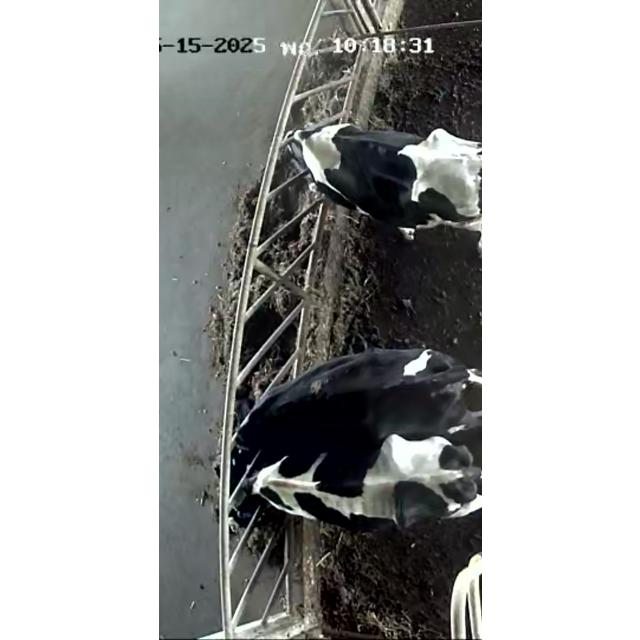eat: (202, 88, 408, 215), (178, 372, 364, 456), (180, 456, 372, 530)
